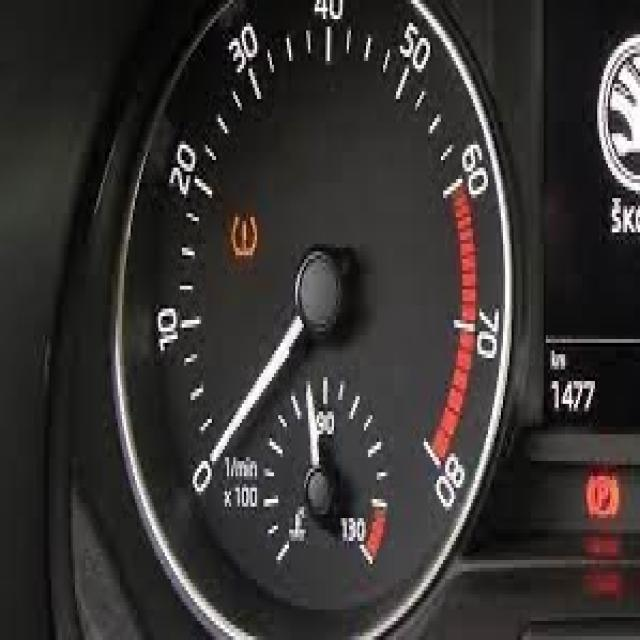kontrolka: (224, 207, 261, 264)
